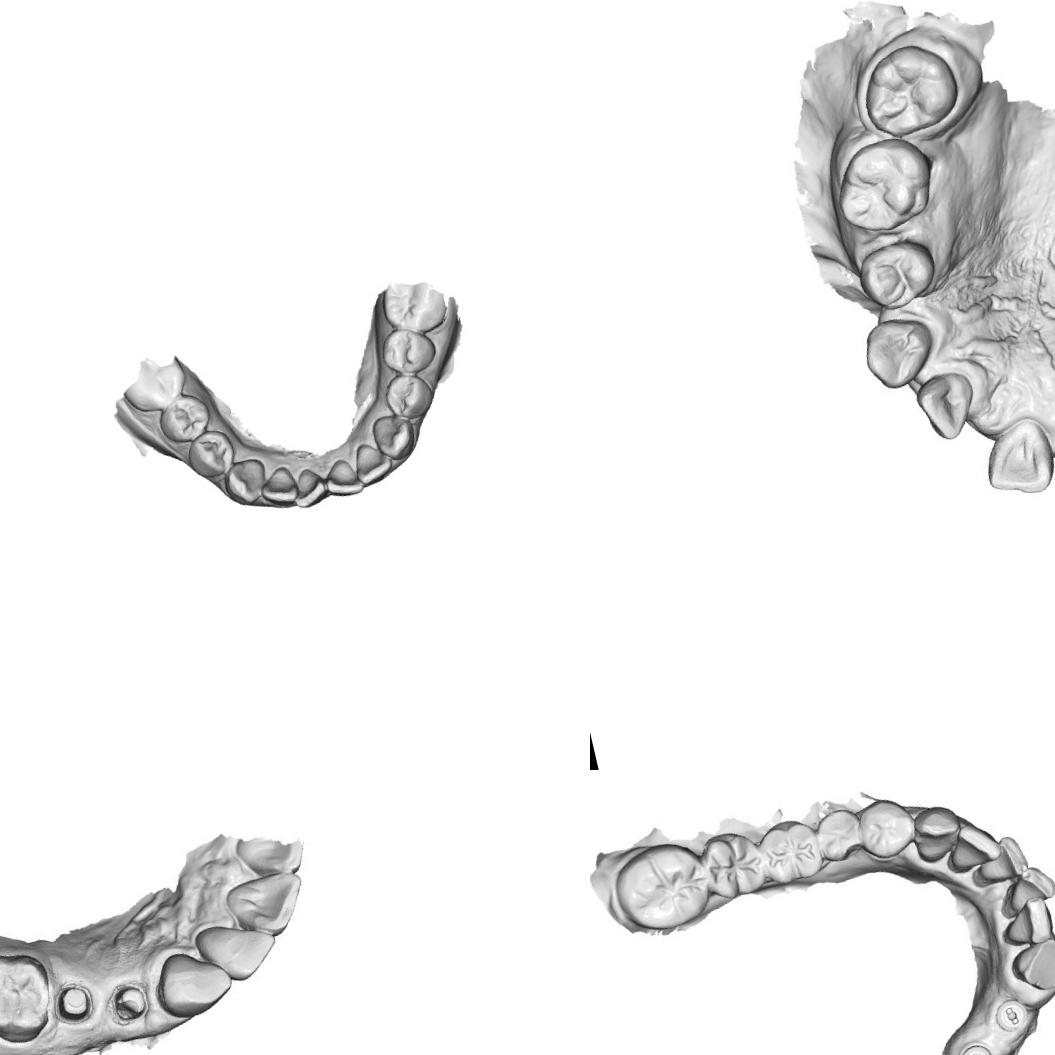abutment: (107, 978, 152, 1028), (52, 979, 98, 1026)
canine: (148, 938, 236, 1025), (860, 313, 940, 396), (906, 804, 965, 866), (1002, 930, 1055, 998), (219, 454, 272, 510), (368, 409, 420, 464)
implant: (957, 1037, 1002, 1055)
implant_minus: (991, 994, 1031, 1034)
incisor: (219, 863, 314, 944), (975, 414, 1055, 505), (193, 909, 282, 988), (912, 364, 982, 447), (943, 818, 1002, 880), (972, 830, 1034, 888), (992, 892, 1055, 949), (1003, 861, 1055, 911), (350, 438, 396, 488), (256, 463, 302, 512), (321, 454, 365, 500), (288, 464, 331, 510)
molar: (848, 33, 965, 139), (606, 836, 720, 939), (829, 132, 937, 234), (0, 939, 61, 1051), (696, 822, 769, 906), (376, 268, 452, 341), (754, 814, 825, 890)
premolar: (839, 229, 946, 322), (850, 790, 921, 865), (153, 388, 216, 448), (376, 321, 440, 380), (810, 803, 869, 867), (380, 368, 438, 426), (182, 424, 240, 482)
